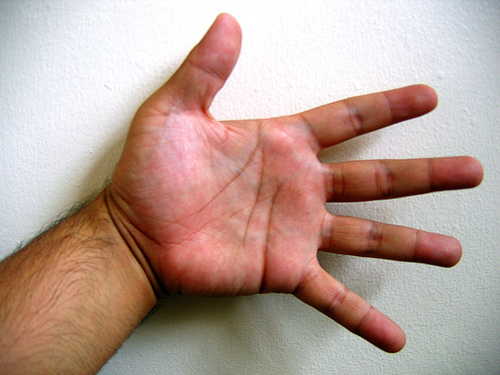palm: (143, 103, 326, 309)
